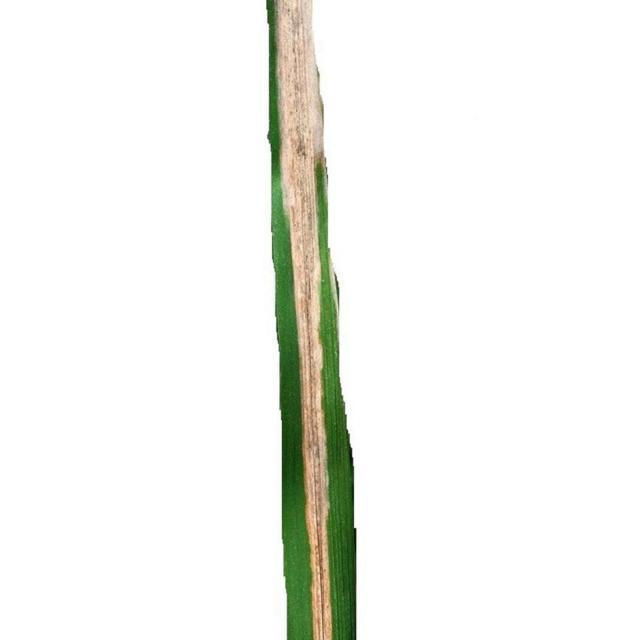leaf blight: (261, 1, 356, 636)
